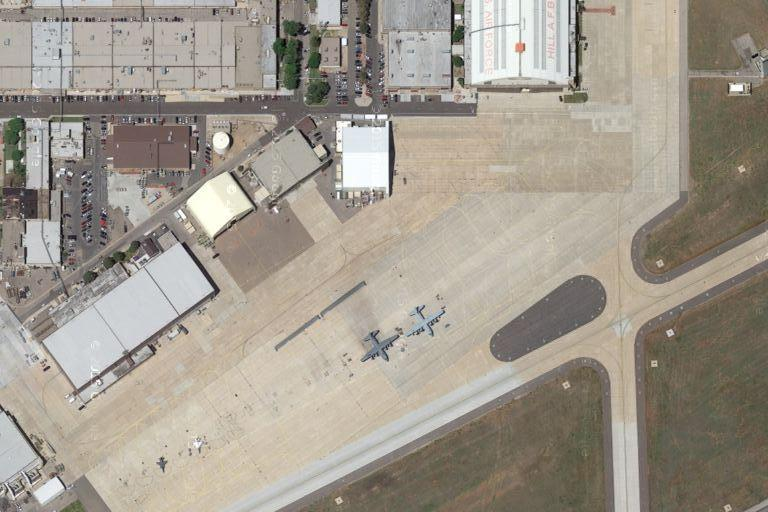C-130: (355, 324, 405, 366), (400, 304, 448, 341)
